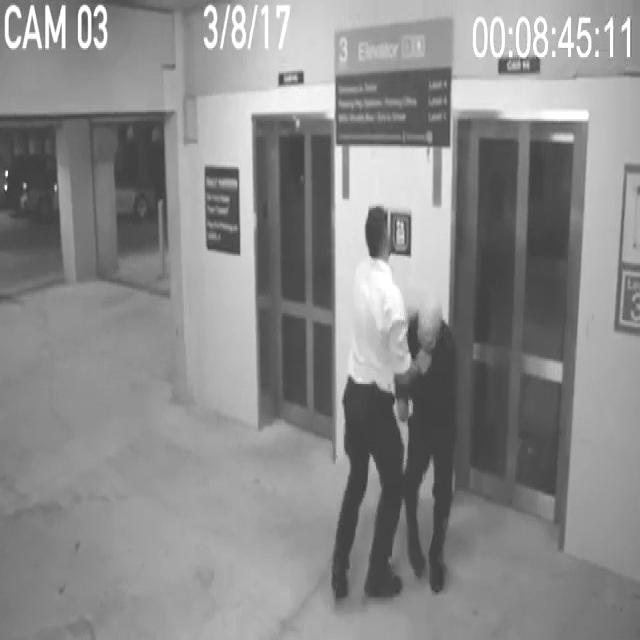fight: (313, 161, 494, 634)
